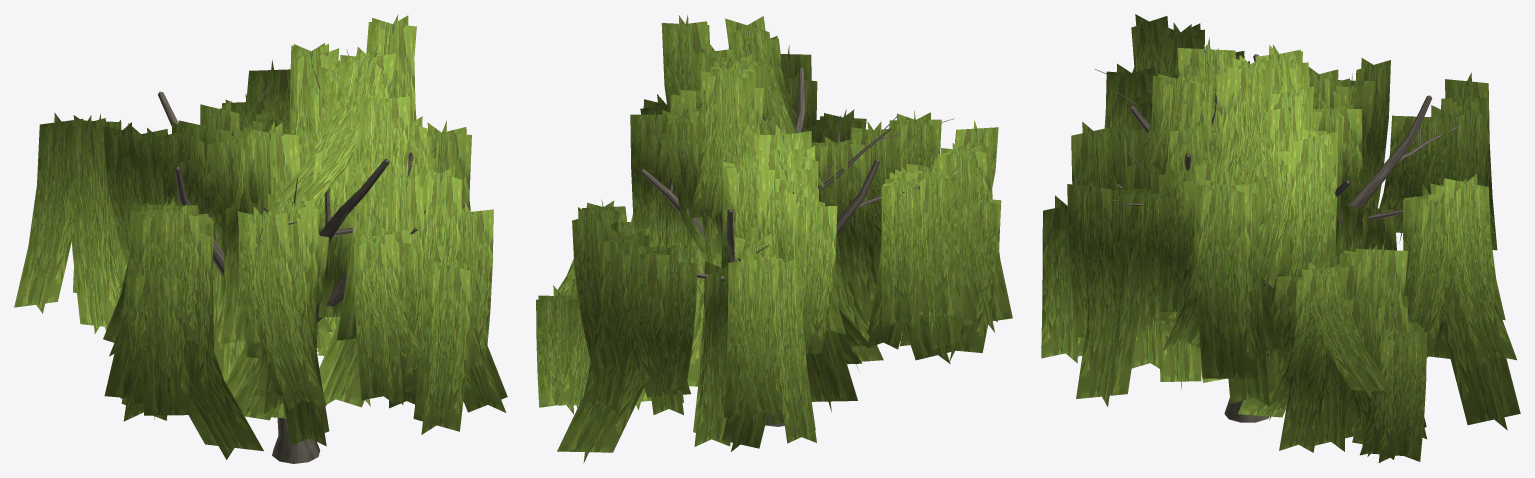
Rendered from veg_willow_a.fbx.
3 renders of one model, left to right at view 1: azimuth 30°, elevation 25°; view 2: azimuth 150°, elevation 25°; view 3: azimuth 270°, elevation 25°, orthographic. The views are drawn at different scales.
Parts seen in each view (by area): view 1: veg_willow_a_LOD0; view 2: veg_willow_a_LOD0; view 3: veg_willow_a_LOD0.
Part boxes in pixels (x1=…): veg_willow_a_LOD0: x1=14, y1=14, x2=507, y2=463; veg_willow_a_LOD0: x1=536, y1=15, x2=1012, y2=462; veg_willow_a_LOD0: x1=1041, y1=14, x2=1520, y2=462.
Size of what is drawn, in the model's own units: 11.61 by 11.01 by 12.06.
Materials: 2 (2 with a texture image).
